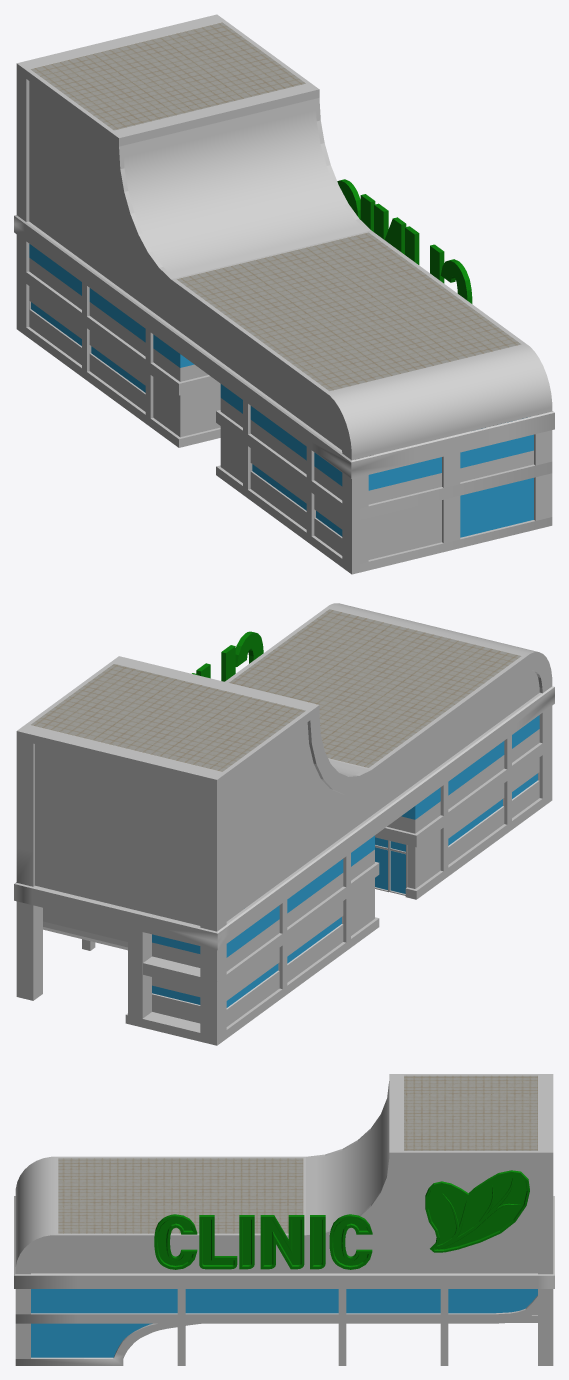
Rendered from Building_Clinic.fbx.
3 views of the same model, one above another, from view 1: azimuth 30°, elevation 25°; view 2: azimuth 150°, elevation 25°; view 3: azimuth 270°, elevation 25° (orthographic). The views are drawn at different scales.
Visible parts, largest first — view 1: building_parts, ceiling, glass, Clinic_logo; view 2: building_parts, ceiling, glass, Clinic_logo; view 3: building_parts, ceiling, glass, Clinic_logo.
Part boxes in pixels (x1=…): building_parts: x1=14, y1=14, x2=554, y2=574; ceiling: x1=31, y1=22, x2=521, y2=391; glass: x1=29, y1=244, x2=533, y2=537; Clinic_logo: x1=337, y1=179, x2=472, y2=303; building_parts: x1=14, y1=603, x2=554, y2=1045; ceiling: x1=31, y1=609, x2=521, y2=771; glass: x1=152, y1=715, x2=539, y2=1007; Clinic_logo: x1=192, y1=631, x2=263, y2=681; building_parts: x1=14, y1=1074, x2=554, y2=1365; ceiling: x1=58, y1=1075, x2=537, y2=1233; glass: x1=31, y1=1289, x2=537, y2=1357; Clinic_logo: x1=154, y1=1170, x2=529, y2=1269.
Size of the model in its own units: 12.49 by 15.21 by 34.96.
